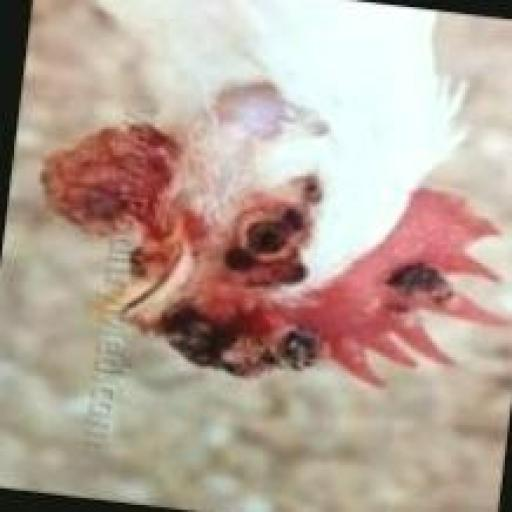disease: (206, 163, 347, 297), (258, 312, 338, 382), (386, 244, 457, 320), (166, 293, 232, 373), (49, 172, 149, 215)
